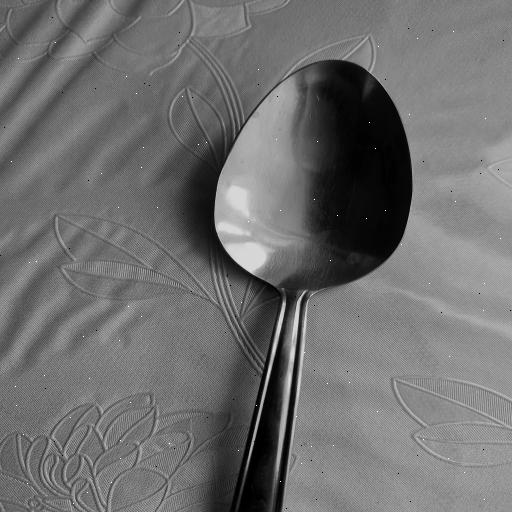spoon: (213, 55, 415, 512)
